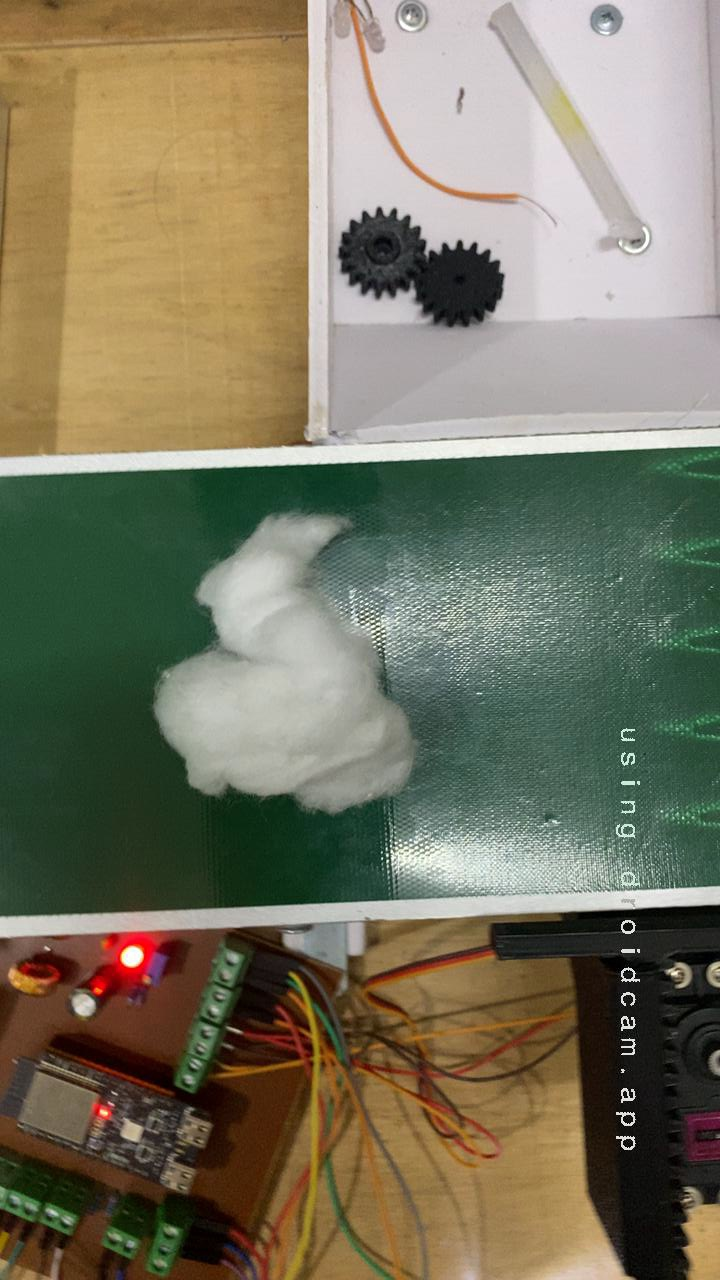cotton: (122, 484, 442, 840)
